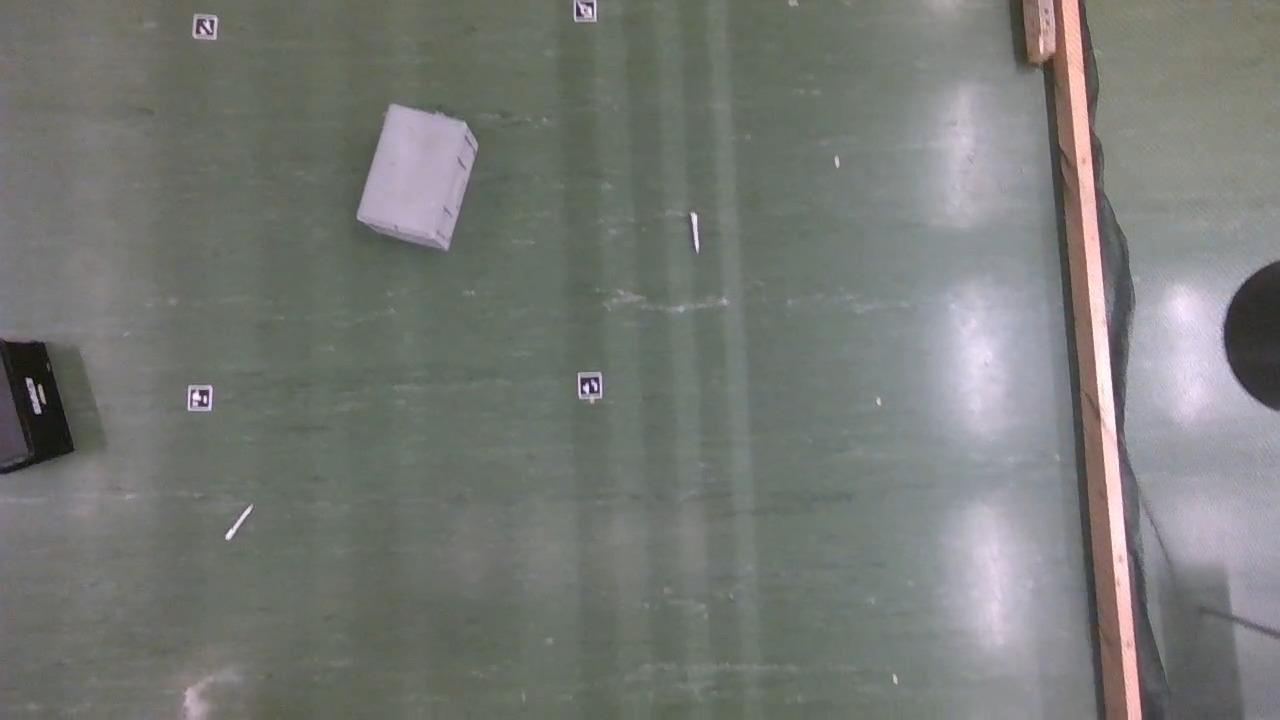probes: (224, 503, 252, 541), (690, 211, 699, 252)
rako: (349, 103, 479, 254), (0, 338, 74, 474)
